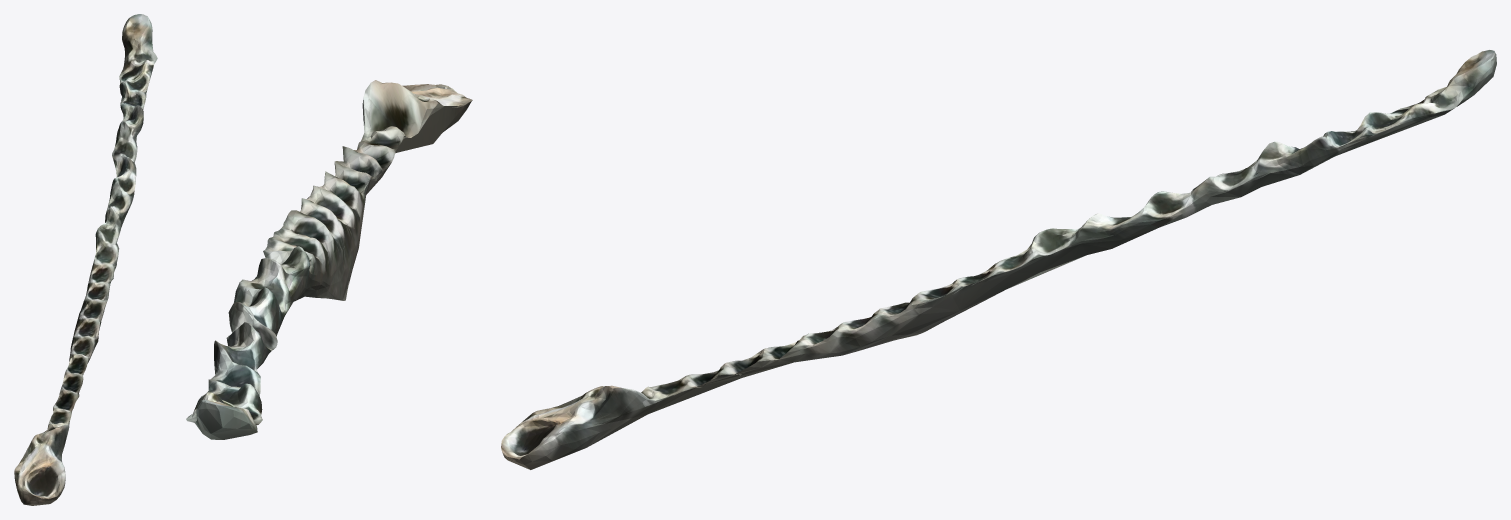
The model's file is chaine.glb.
3 views of the same model, side by side, from view 1: azimuth 30°, elevation 25°; view 2: azimuth 210°, elevation 25°; view 3: azimuth 330°, elevation 25° (orthographic). The views are drawn at different scales.
Bounding box in the file's own units: 0.6151 × 0.2486 × 0.7932.
1 material, 1 textured.
